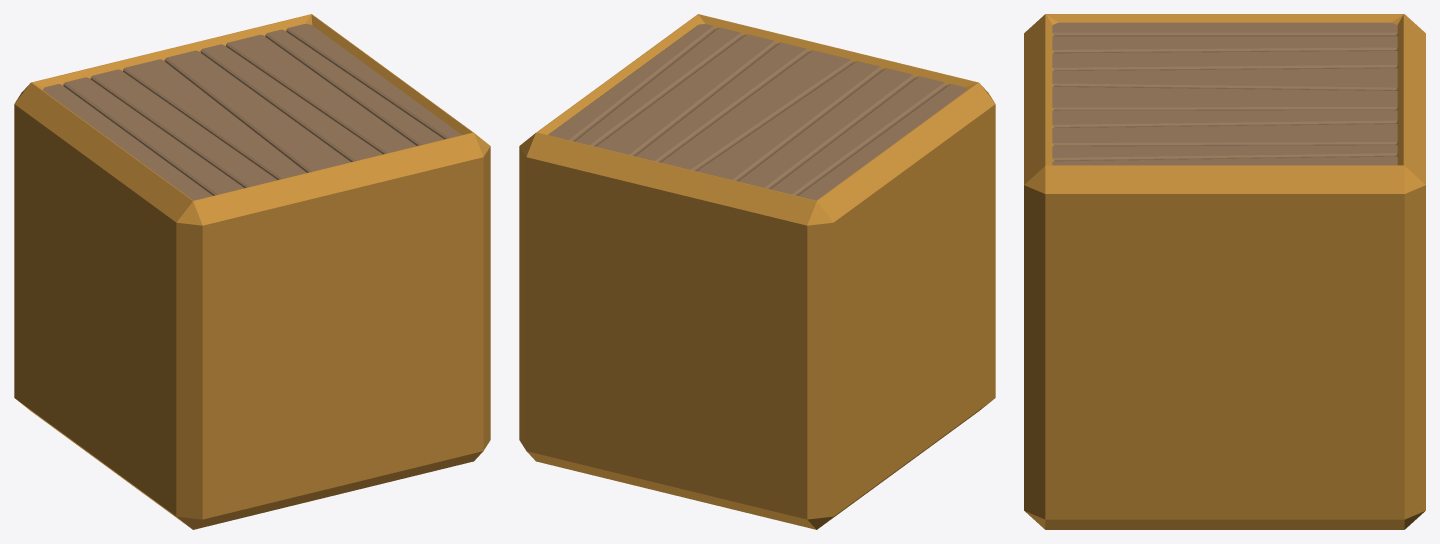
The picture shows the model from 3 angles, left to right: view 1: azimuth 30°, elevation 25°; view 2: azimuth 150°, elevation 25°; view 3: azimuth 270°, elevation 25°; orthographic projection. The views are drawn at different scales.
Parts seen in each view (by area): view 1: Cube, Plate; view 2: Cube, Plate; view 3: Cube, Plate.
Boxes of the visible parts, <box> form: Cube: <box>14,14,490,529</box>; Plate: <box>43,24,461,200</box>; Cube: <box>519,14,995,529</box>; Plate: <box>548,24,966,200</box>; Cube: <box>1024,14,1425,529</box>; Plate: <box>1052,22,1397,165</box>.
Size of the model in its own units: 2.5 by 2.5 by 2.5.
